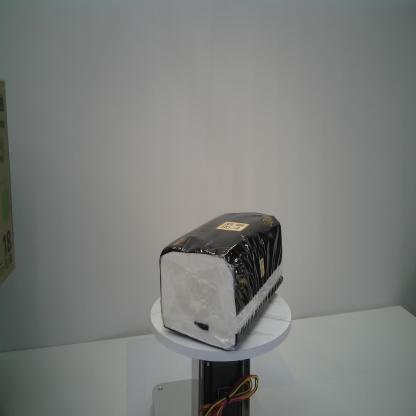Tissue: (158, 210, 284, 353)
